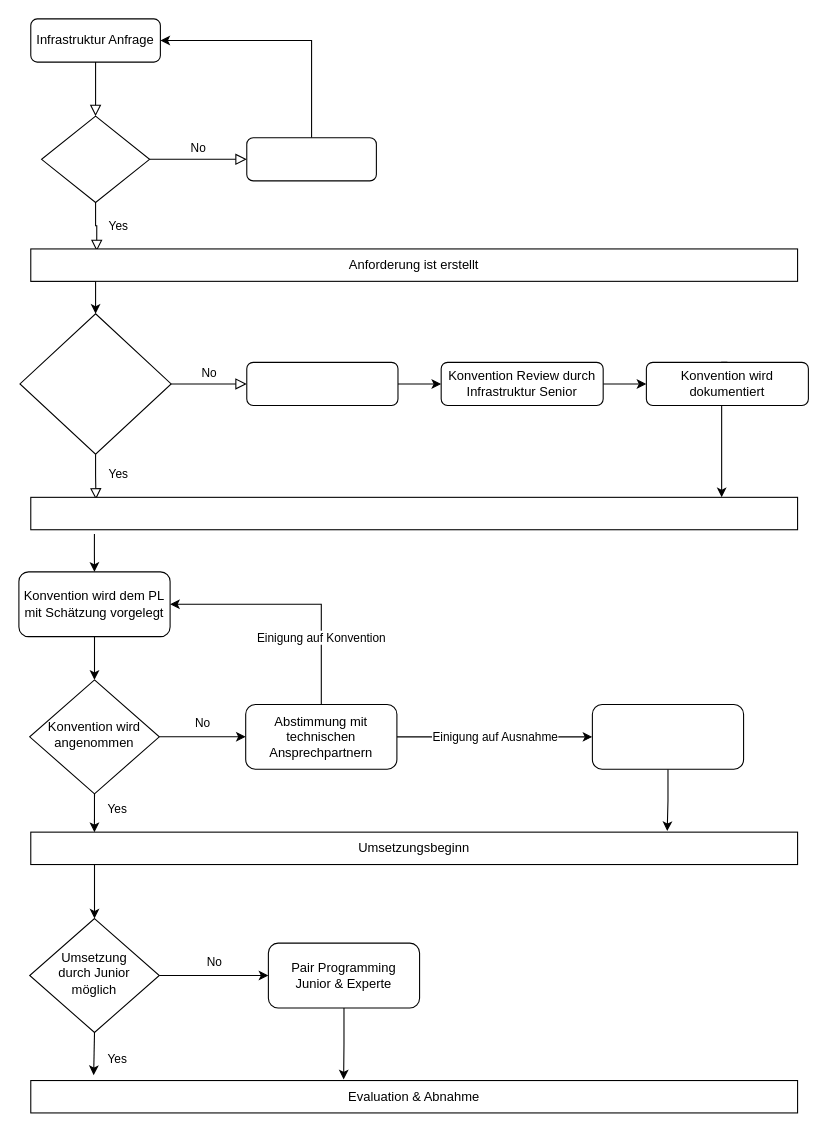
Some shapes in this 827 by 1132 pixel diagram are drawn without their labels. The box of each missing label's shape, as (x1, y1, x2, y2) in pixels:
Es gibt eine passende Konvention in der aFP: (19, 313, 171, 454)
Individuallösung: (591, 703, 744, 769)
Informationen vollständig?: (40, 115, 150, 202)
Konvention ist erarbeitet: (30, 496, 798, 530)
Konvention wird konzipiert: (246, 361, 398, 406)
Rückfragen: (246, 137, 376, 181)
